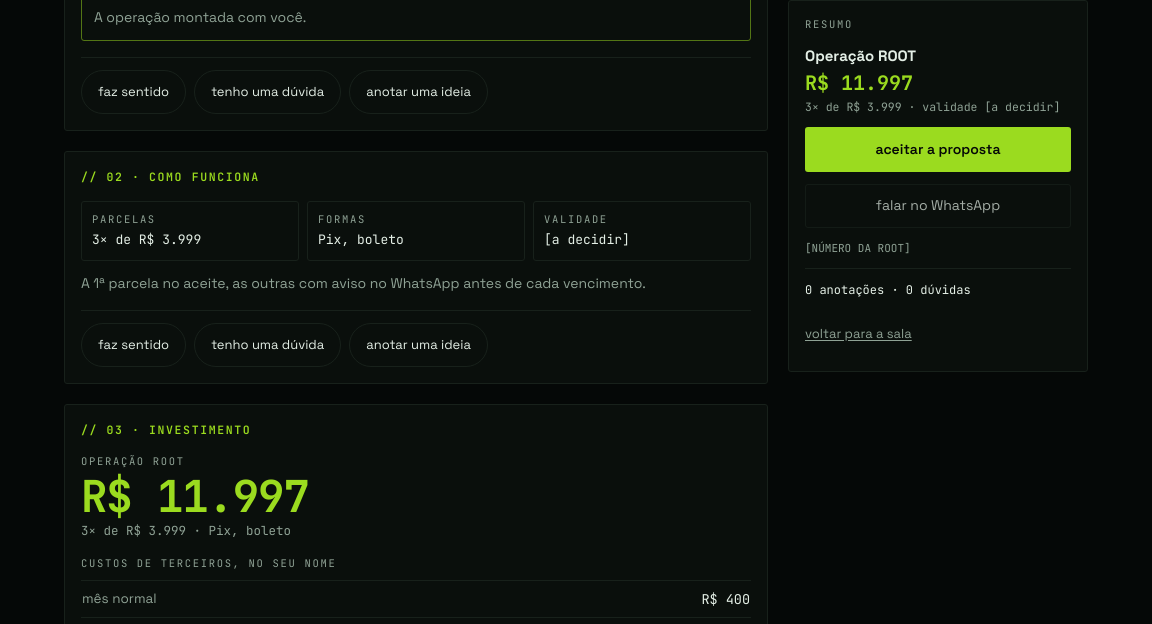
Test: a página da proposta › o erro da API aparece legível, e o campo continua aberto com o texto
This screenshot has width=1152, height=624.
(page scrolled)
Click the button "tenho uma dúvida" below "parcelas": (268, 344) [194,322,341,366]
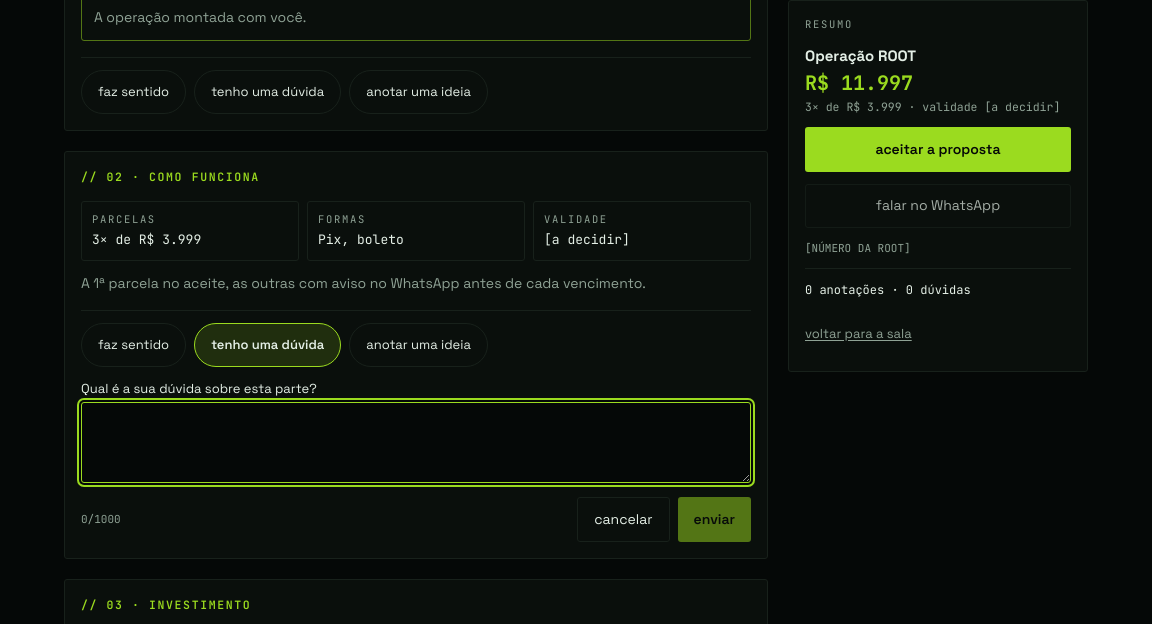
In the text box: (416, 442) [81,402,751,483], type "E o boleto?"
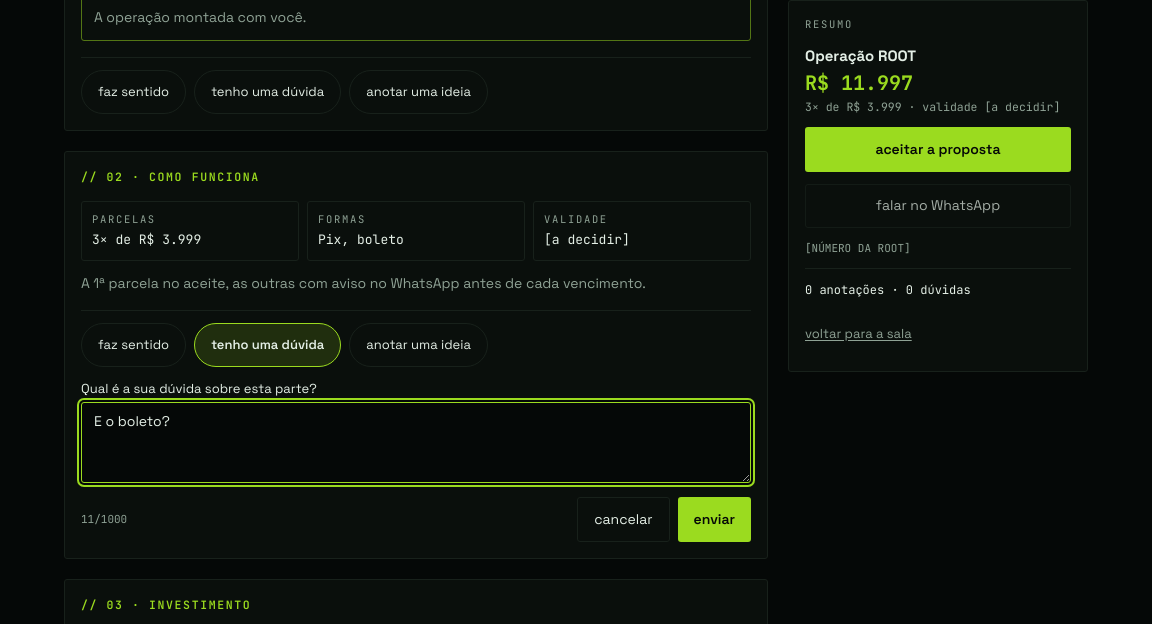
Click the button "enviar": (714, 519) [678,496,751,542]
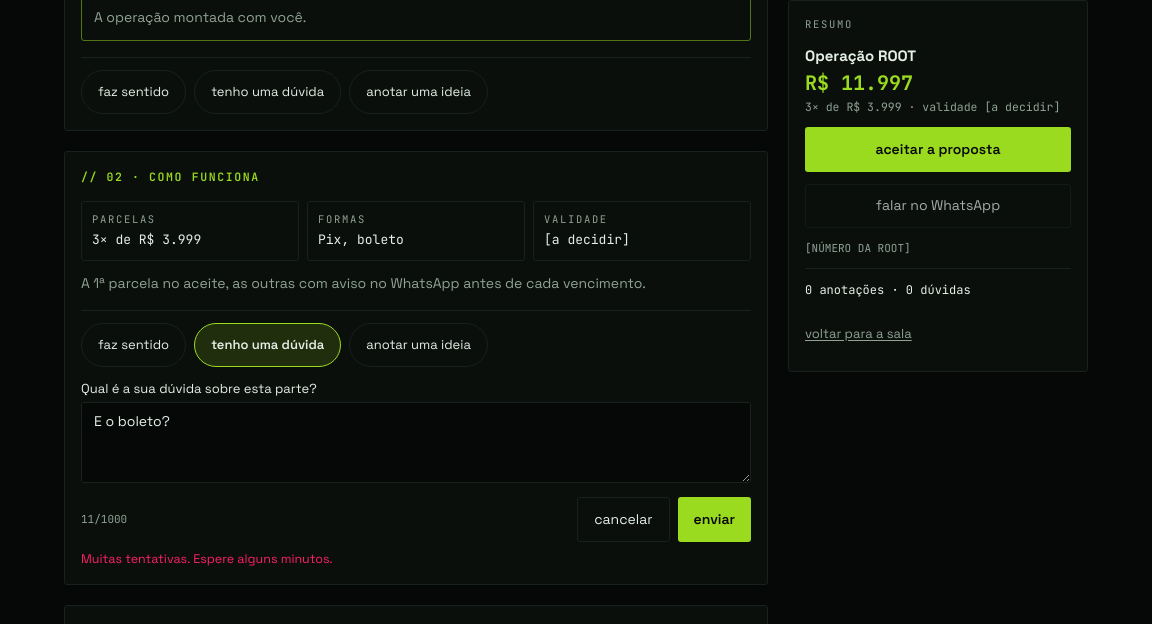
expect the message reads "Muitas tentativas. Espere alguns minutos.": met, box [81,550,333,566]
